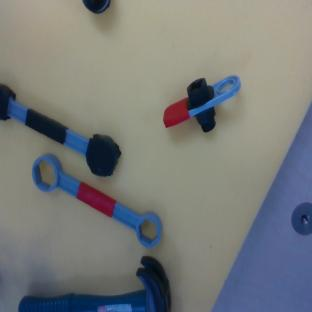part_1_good: (157, 56, 249, 150)
part_3_bad: (0, 83, 126, 181)
part_3_good: (24, 148, 170, 253)
